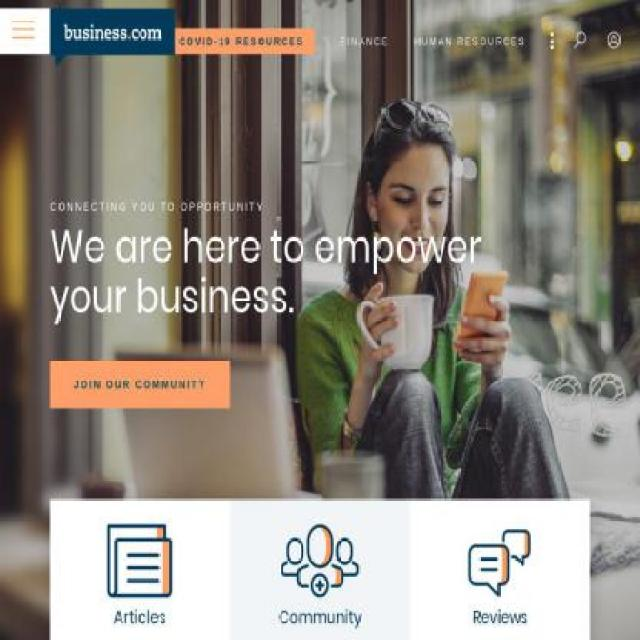button: (49, 499, 231, 639), (229, 499, 411, 639), (409, 499, 591, 639), (50, 360, 230, 409), (50, 8, 175, 67), (167, 28, 316, 62)
